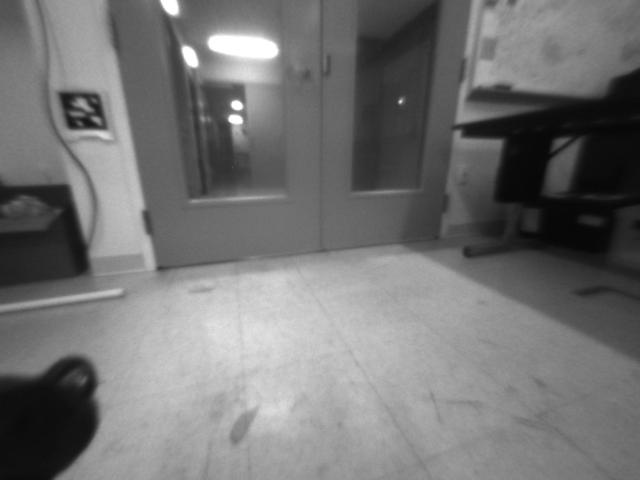door_handle: (282, 63, 314, 82)
